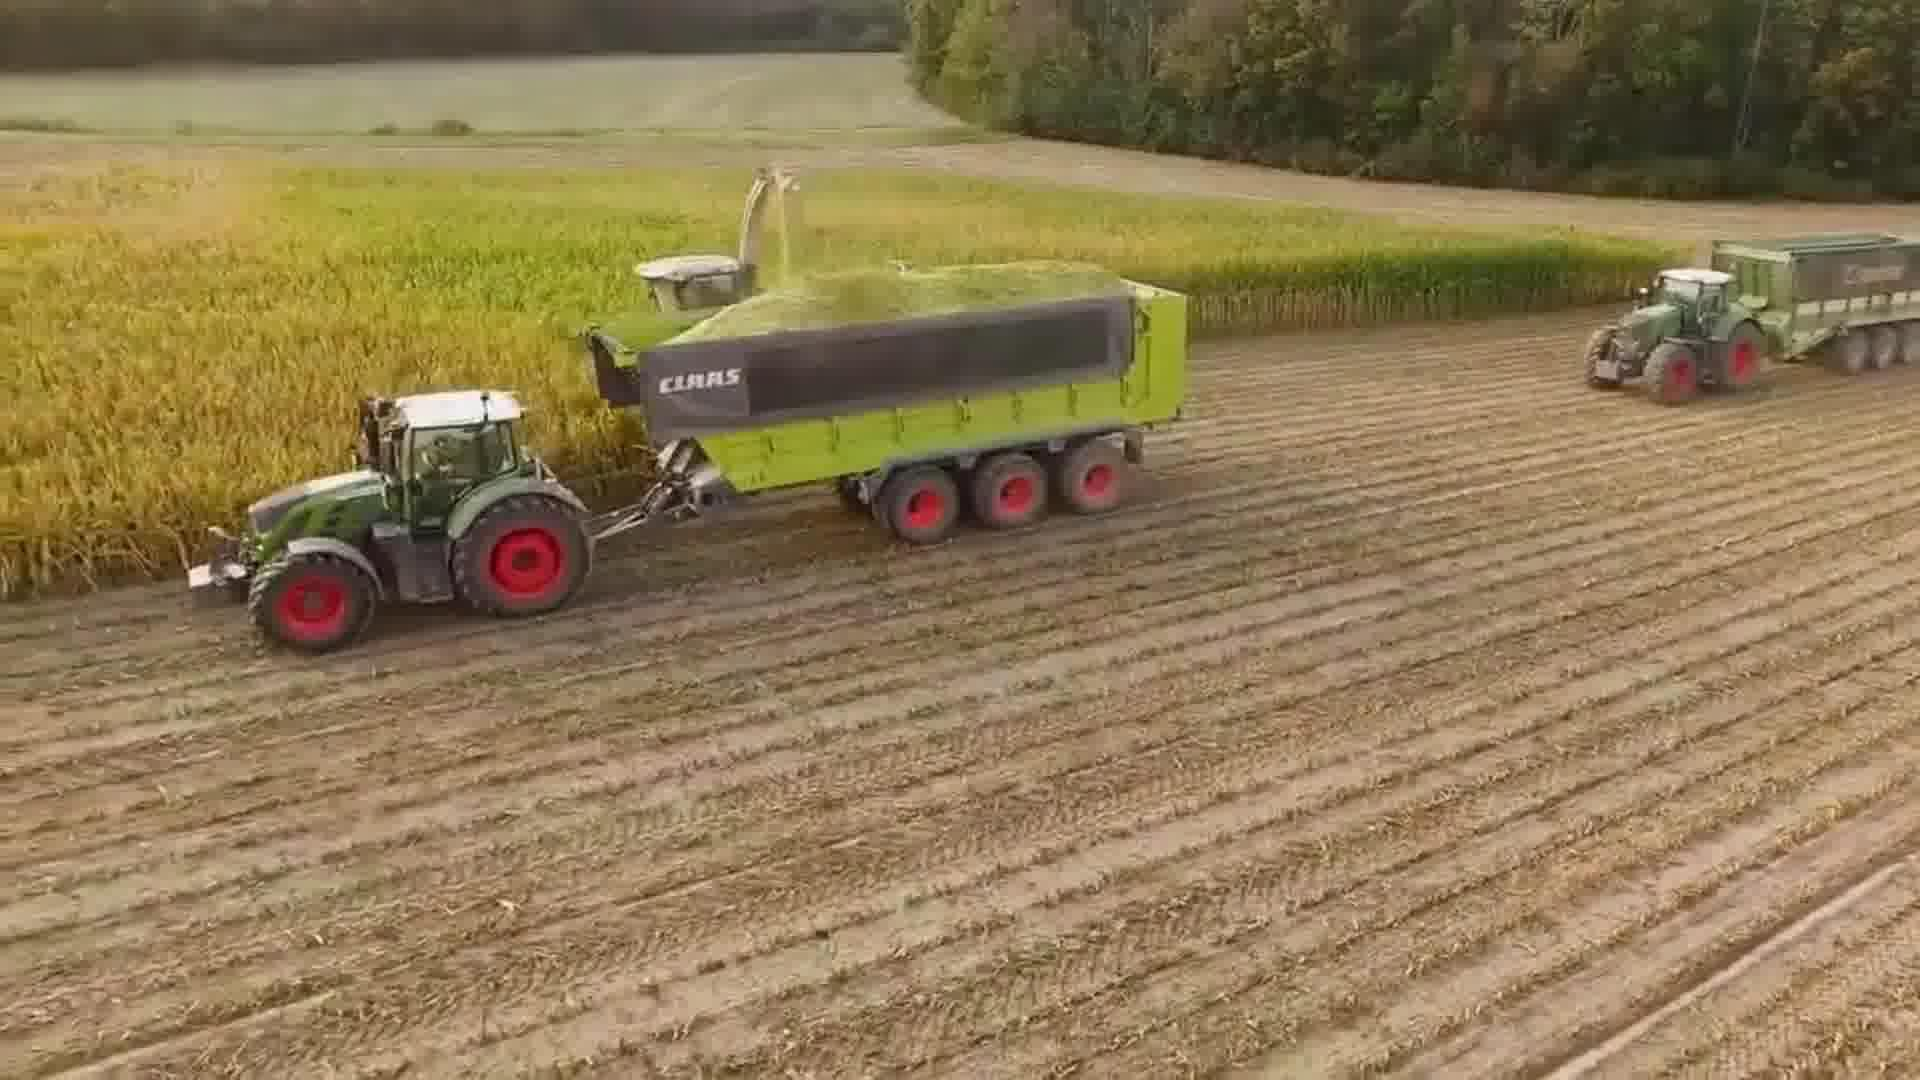combine harvester: (624, 154, 810, 316)
tractor: (167, 384, 600, 667), (1586, 263, 1771, 409)
trailer: (583, 256, 1206, 547), (1711, 226, 1920, 380)
